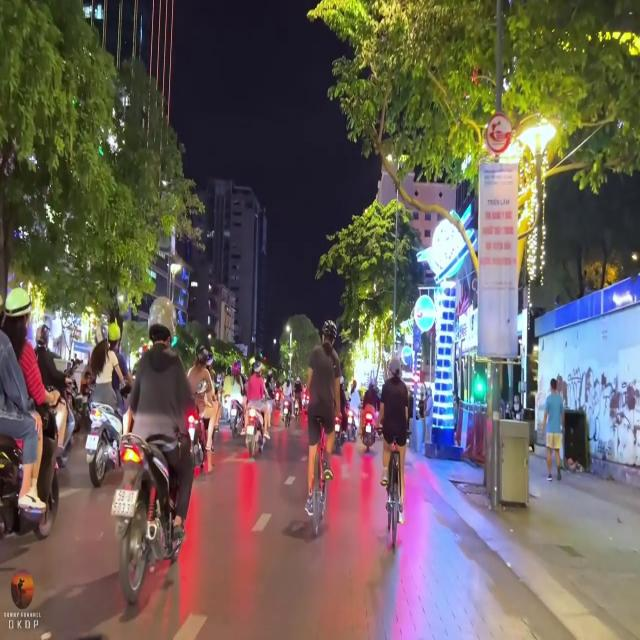bien_trang: (110, 487, 138, 519)
